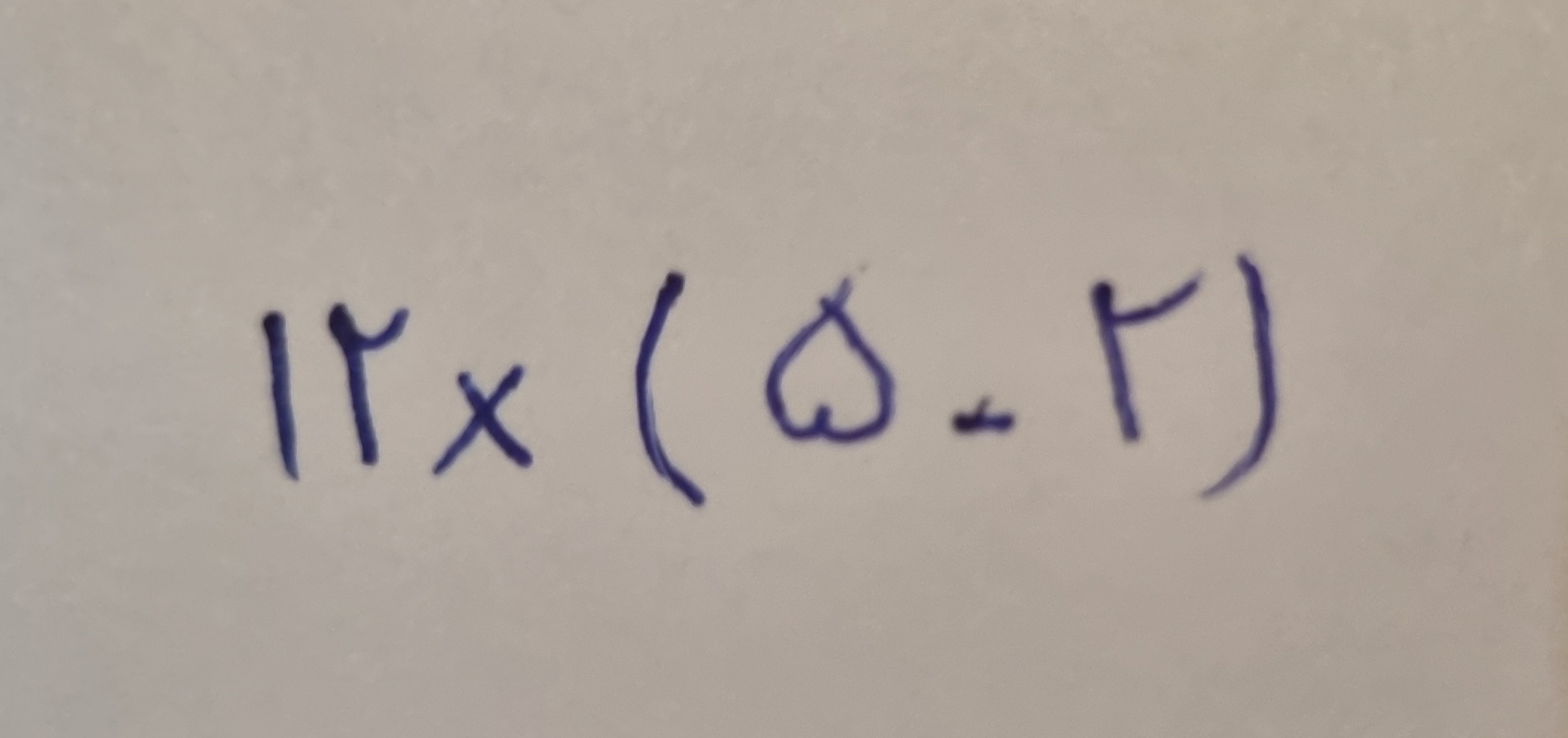character: (764, 273, 900, 447), (1194, 241, 1282, 506), (1087, 266, 1206, 447), (633, 268, 710, 511), (323, 300, 412, 471), (429, 358, 538, 476), (255, 307, 303, 487), (945, 405, 1019, 437)
